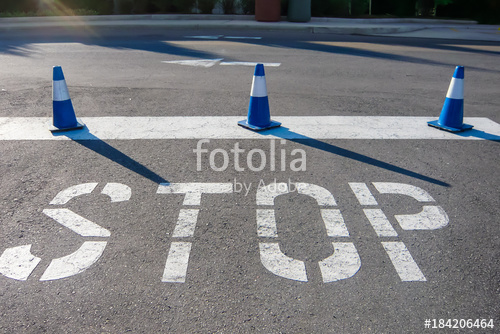cone: (425, 64, 479, 136), (238, 63, 286, 134), (42, 65, 87, 135)
